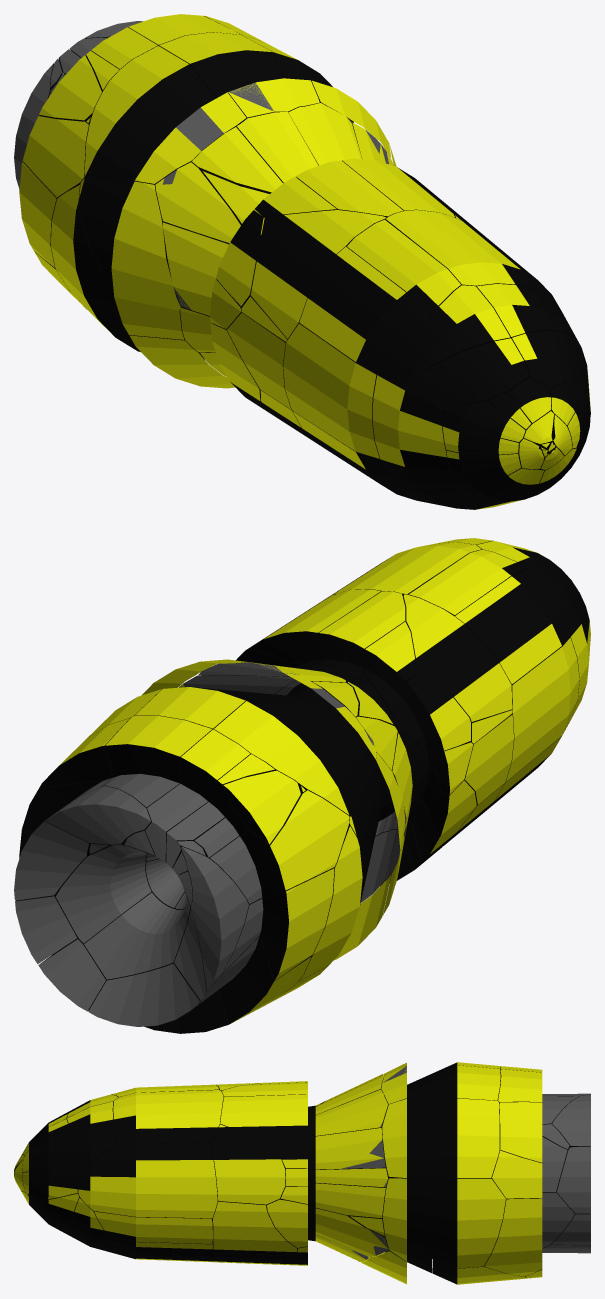
File: Rocket8Broken.fbx
3 views of the same model, one above another, from view 1: azimuth 30°, elevation 25°; view 2: azimuth 150°, elevation 25°; view 3: azimuth 270°, elevation 25° (orthographic). The views are drawn at different scales.
Parts seen in each view (by area): view 1: Cylinder_cell.070, Cylinder_cell.095, Cylinder_cell.062, Cylinder_cell.065, Cylinder_cell.130, Cylinder_cell.076, Cylinder_cell.078, Cylinder_cell.080, Cylinder_cell.057, Cylinder_cell.077, Cylinder_cell.048, Cylinder_cell.032 (+43 smaller); view 2: Cylinder_cell.062, Cylinder_cell.038, Cylinder_cell.070, Cylinder_cell.095, Cylinder_cell.050, Cylinder_cell.040, Cylinder_cell.068, Cylinder_cell.065, Cylinder_cell.016, Cylinder_cell.089, Cylinder_cell.041, Cylinder_cell.057 (+43 smaller); view 3: Cylinder_cell.011, Cylinder_cell.059, Cylinder_cell.023, Cylinder_cell.057, Cylinder_cell.080, Cylinder_cell.046, Cylinder_cell.049, Cylinder_cell.051, Cylinder_cell.024, Cylinder_cell.048, Cylinder_cell.099, Cylinder_cell.100 (+34 smaller).
Part boxes in pixels (<box>): Cylinder_cell.070: <box>84,46,248,188</box>; Cylinder_cell.095: <box>299,246,431,374</box>; Cylinder_cell.062: <box>250,210,386,338</box>; Cylinder_cell.065: <box>283,323,380,458</box>; Cylinder_cell.130: <box>111,181,184,339</box>; Cylinder_cell.076: <box>372,371,457,487</box>; Cylinder_cell.078: <box>237,112,403,217</box>; Cylinder_cell.080: <box>385,210,547,296</box>; Cylinder_cell.057: <box>288,103,454,217</box>; Cylinder_cell.077: <box>419,338,529,408</box>; Cylinder_cell.048: <box>159,32,297,142</box>; Cylinder_cell.032: <box>347,219,461,315</box>; Cylinder_cell.062: <box>362,594,512,721</box>; Cylinder_cell.038: <box>178,790,349,906</box>; Cylinder_cell.070: <box>214,701,351,815</box>; Cylinder_cell.095: <box>455,569,572,684</box>; Cylinder_cell.050: <box>103,715,212,855</box>; Cylinder_cell.040: <box>223,868,334,980</box>; Cylinder_cell.068: <box>55,843,153,943</box>; Cylinder_cell.065: <box>505,637,579,781</box>; Cylinder_cell.016: <box>84,892,190,980</box>; Cylinder_cell.089: <box>174,909,311,1024</box>; Cylinder_cell.041: <box>181,846,248,991</box>; Cylinder_cell.057: <box>198,589,381,691</box>; Cylinder_cell.011: <box>78,1143,217,1218</box>; Cylinder_cell.059: <box>393,1177,505,1268</box>; Cylinder_cell.023: <box>407,1098,499,1177</box>; Cylinder_cell.057: <box>220,1089,387,1142</box>; Cylinder_cell.080: <box>113,1090,223,1145</box>; Cylinder_cell.046: <box>211,1124,290,1204</box>; Cylinder_cell.049: <box>484,1187,574,1276</box>; Cylinder_cell.051: <box>211,1201,297,1255</box>; Cylinder_cell.024: <box>489,1136,567,1198</box>; Cylinder_cell.048: <box>386,1065,500,1113</box>; Cylinder_cell.099: <box>94,1211,212,1243</box>; Cylinder_cell.100: <box>298,1128,385,1169</box>.
Bounding box in the file's own units: 0.7547 × 0.7547 × 1.96.
